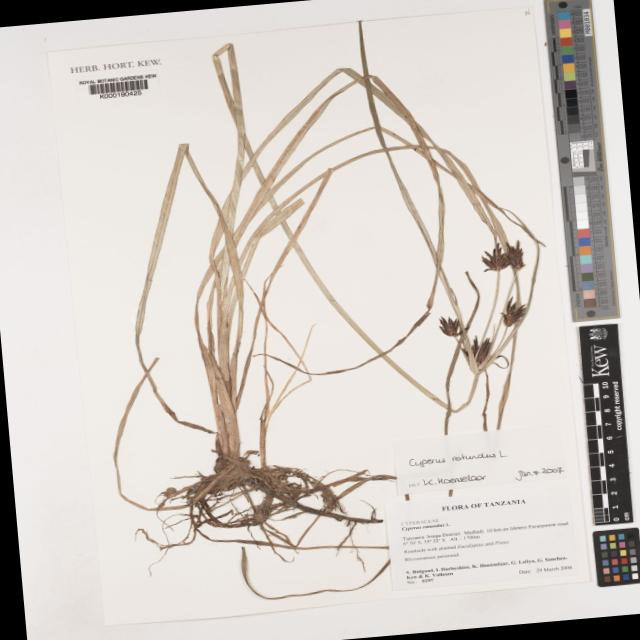cyperus: (404, 223, 564, 395)
